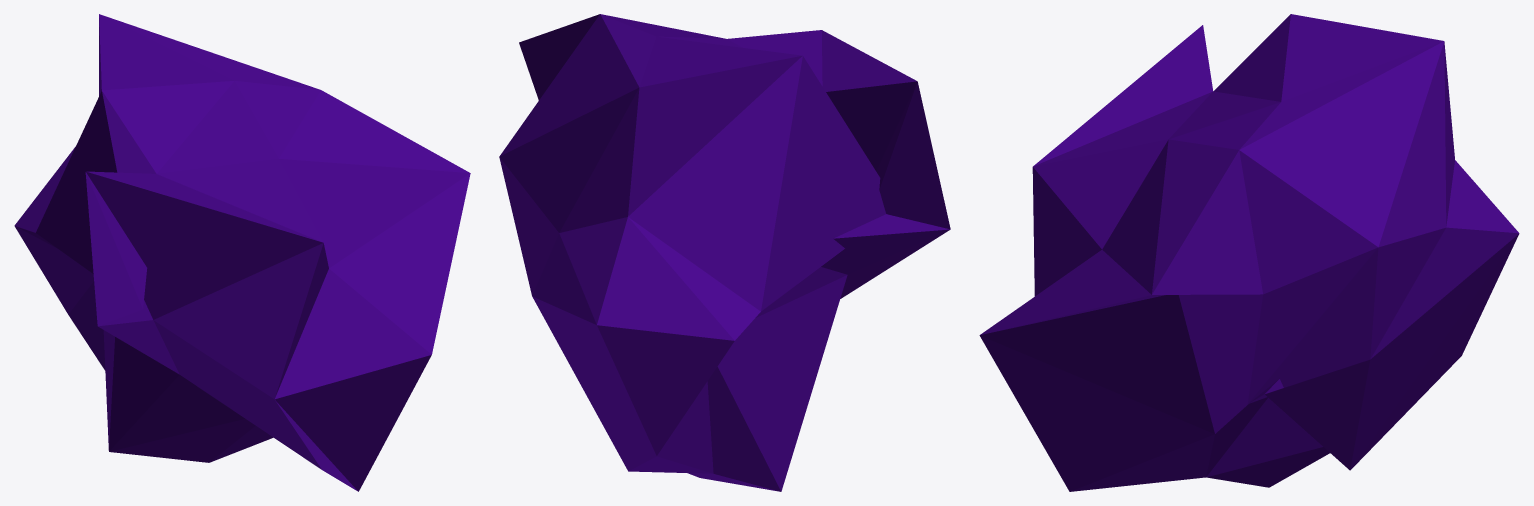
3 renders of one model, left to right at view 1: azimuth 30°, elevation 25°; view 2: azimuth 150°, elevation 25°; view 3: azimuth 270°, elevation 25°, orthographic. The views are drawn at different scales.
Parts seen in each view (by area): view 1: Icosphere; view 2: Icosphere; view 3: Icosphere.
Boxes of the visible parts, <box> form: Icosphere: <box>14,14,470,491</box>; Icosphere: <box>499,14,950,491</box>; Icosphere: <box>979,14,1519,491</box>.
Bounding box in the file's own units: 2.24 × 2.3 × 2.62.
